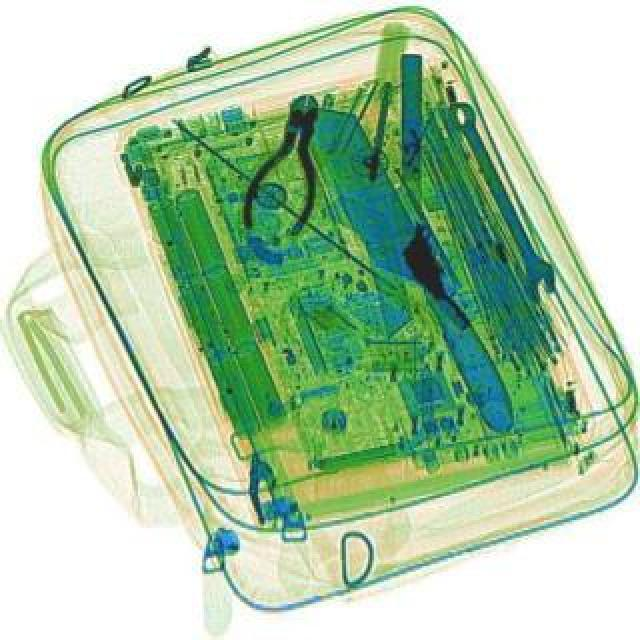knife: (284, 98, 522, 464), (354, 56, 430, 344)
scissors: (436, 100, 566, 312)
wrench: (236, 90, 340, 242)
